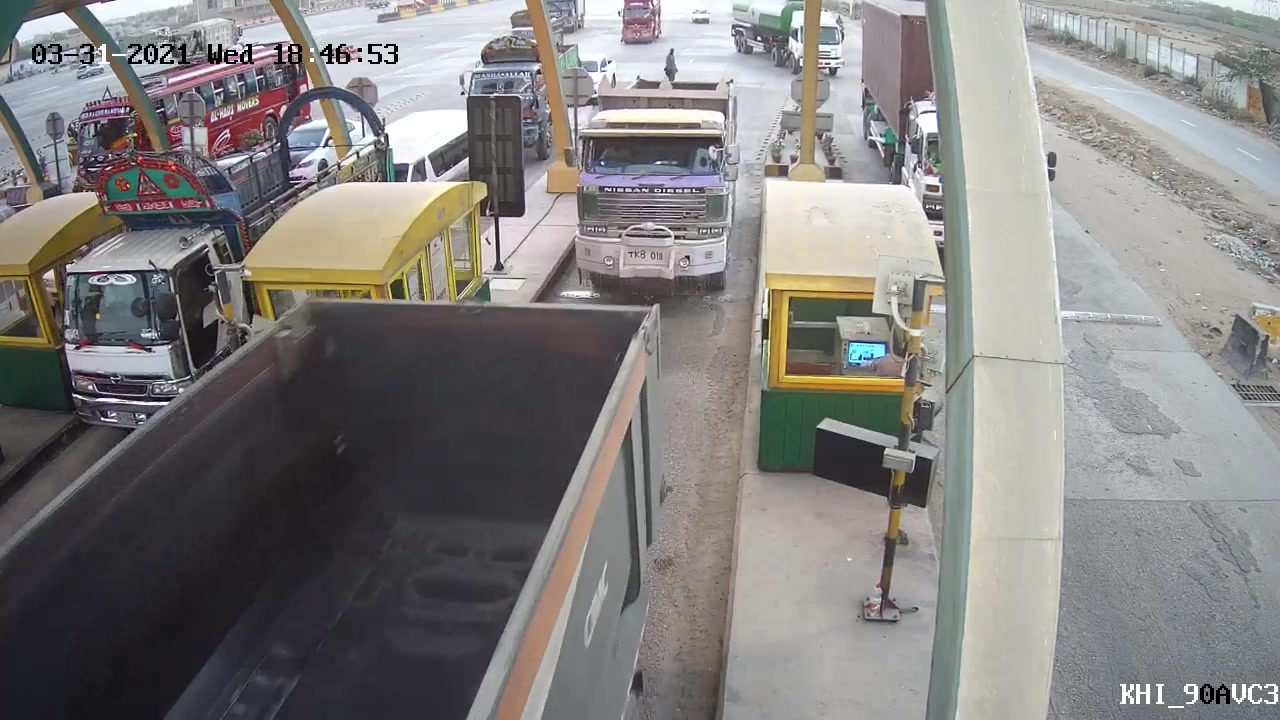F5: (570, 62, 747, 301)
